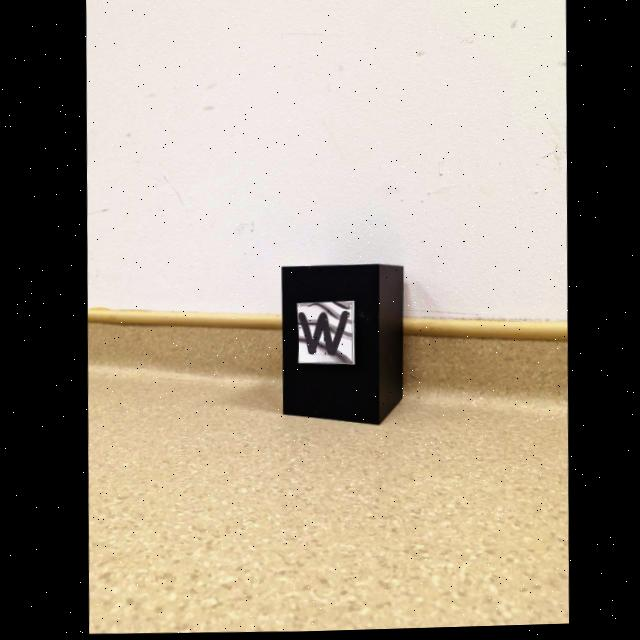W: (297, 312, 347, 357)
